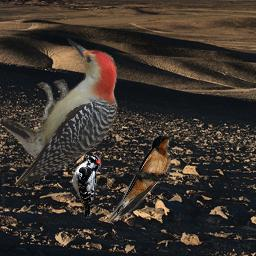Swallow: (105, 133, 174, 223)
Woodpecker: (1, 38, 122, 184), (71, 153, 102, 218)
